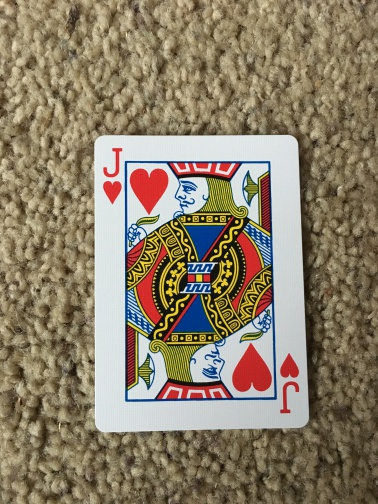jack: (93, 134, 309, 431)
